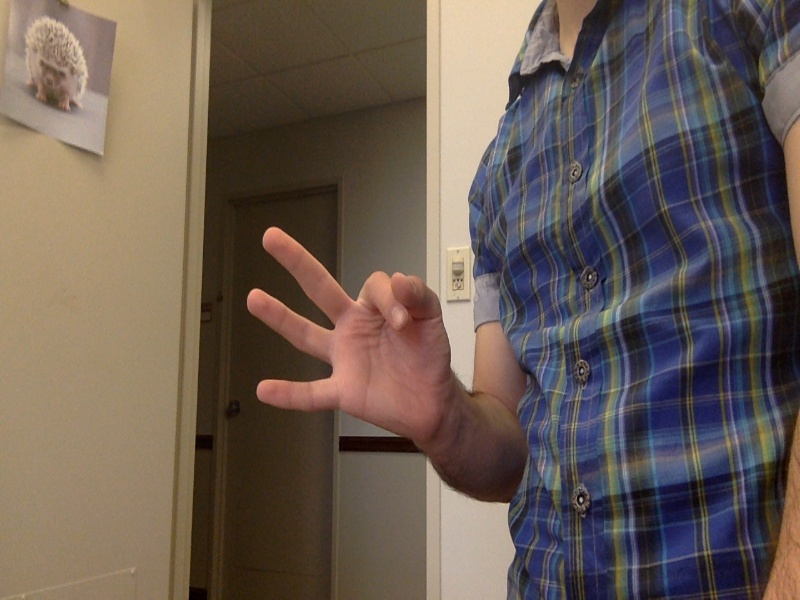3-hand: (245, 224, 456, 444)
